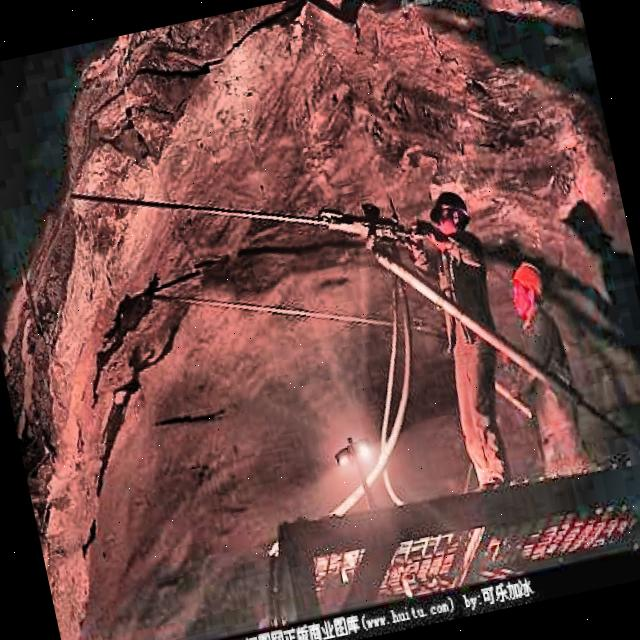helmet: (416, 181, 476, 247), (501, 258, 554, 326)
